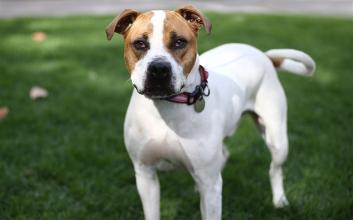dog: (97, 9, 322, 220)
